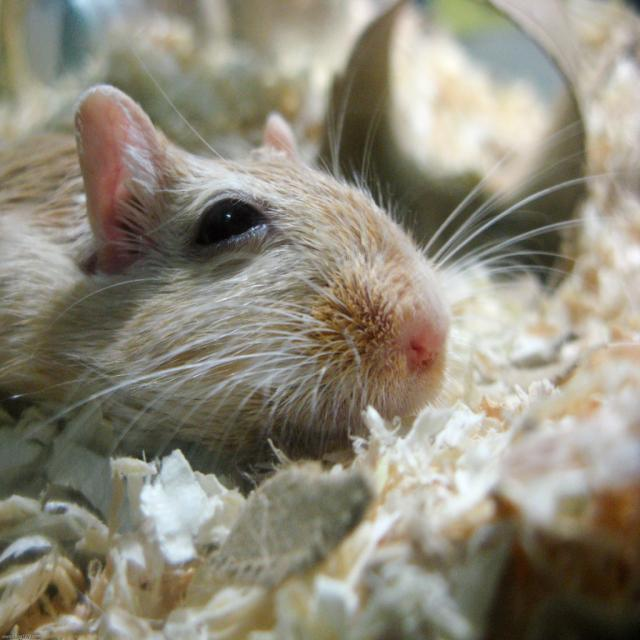rat: (0, 47, 610, 476)
